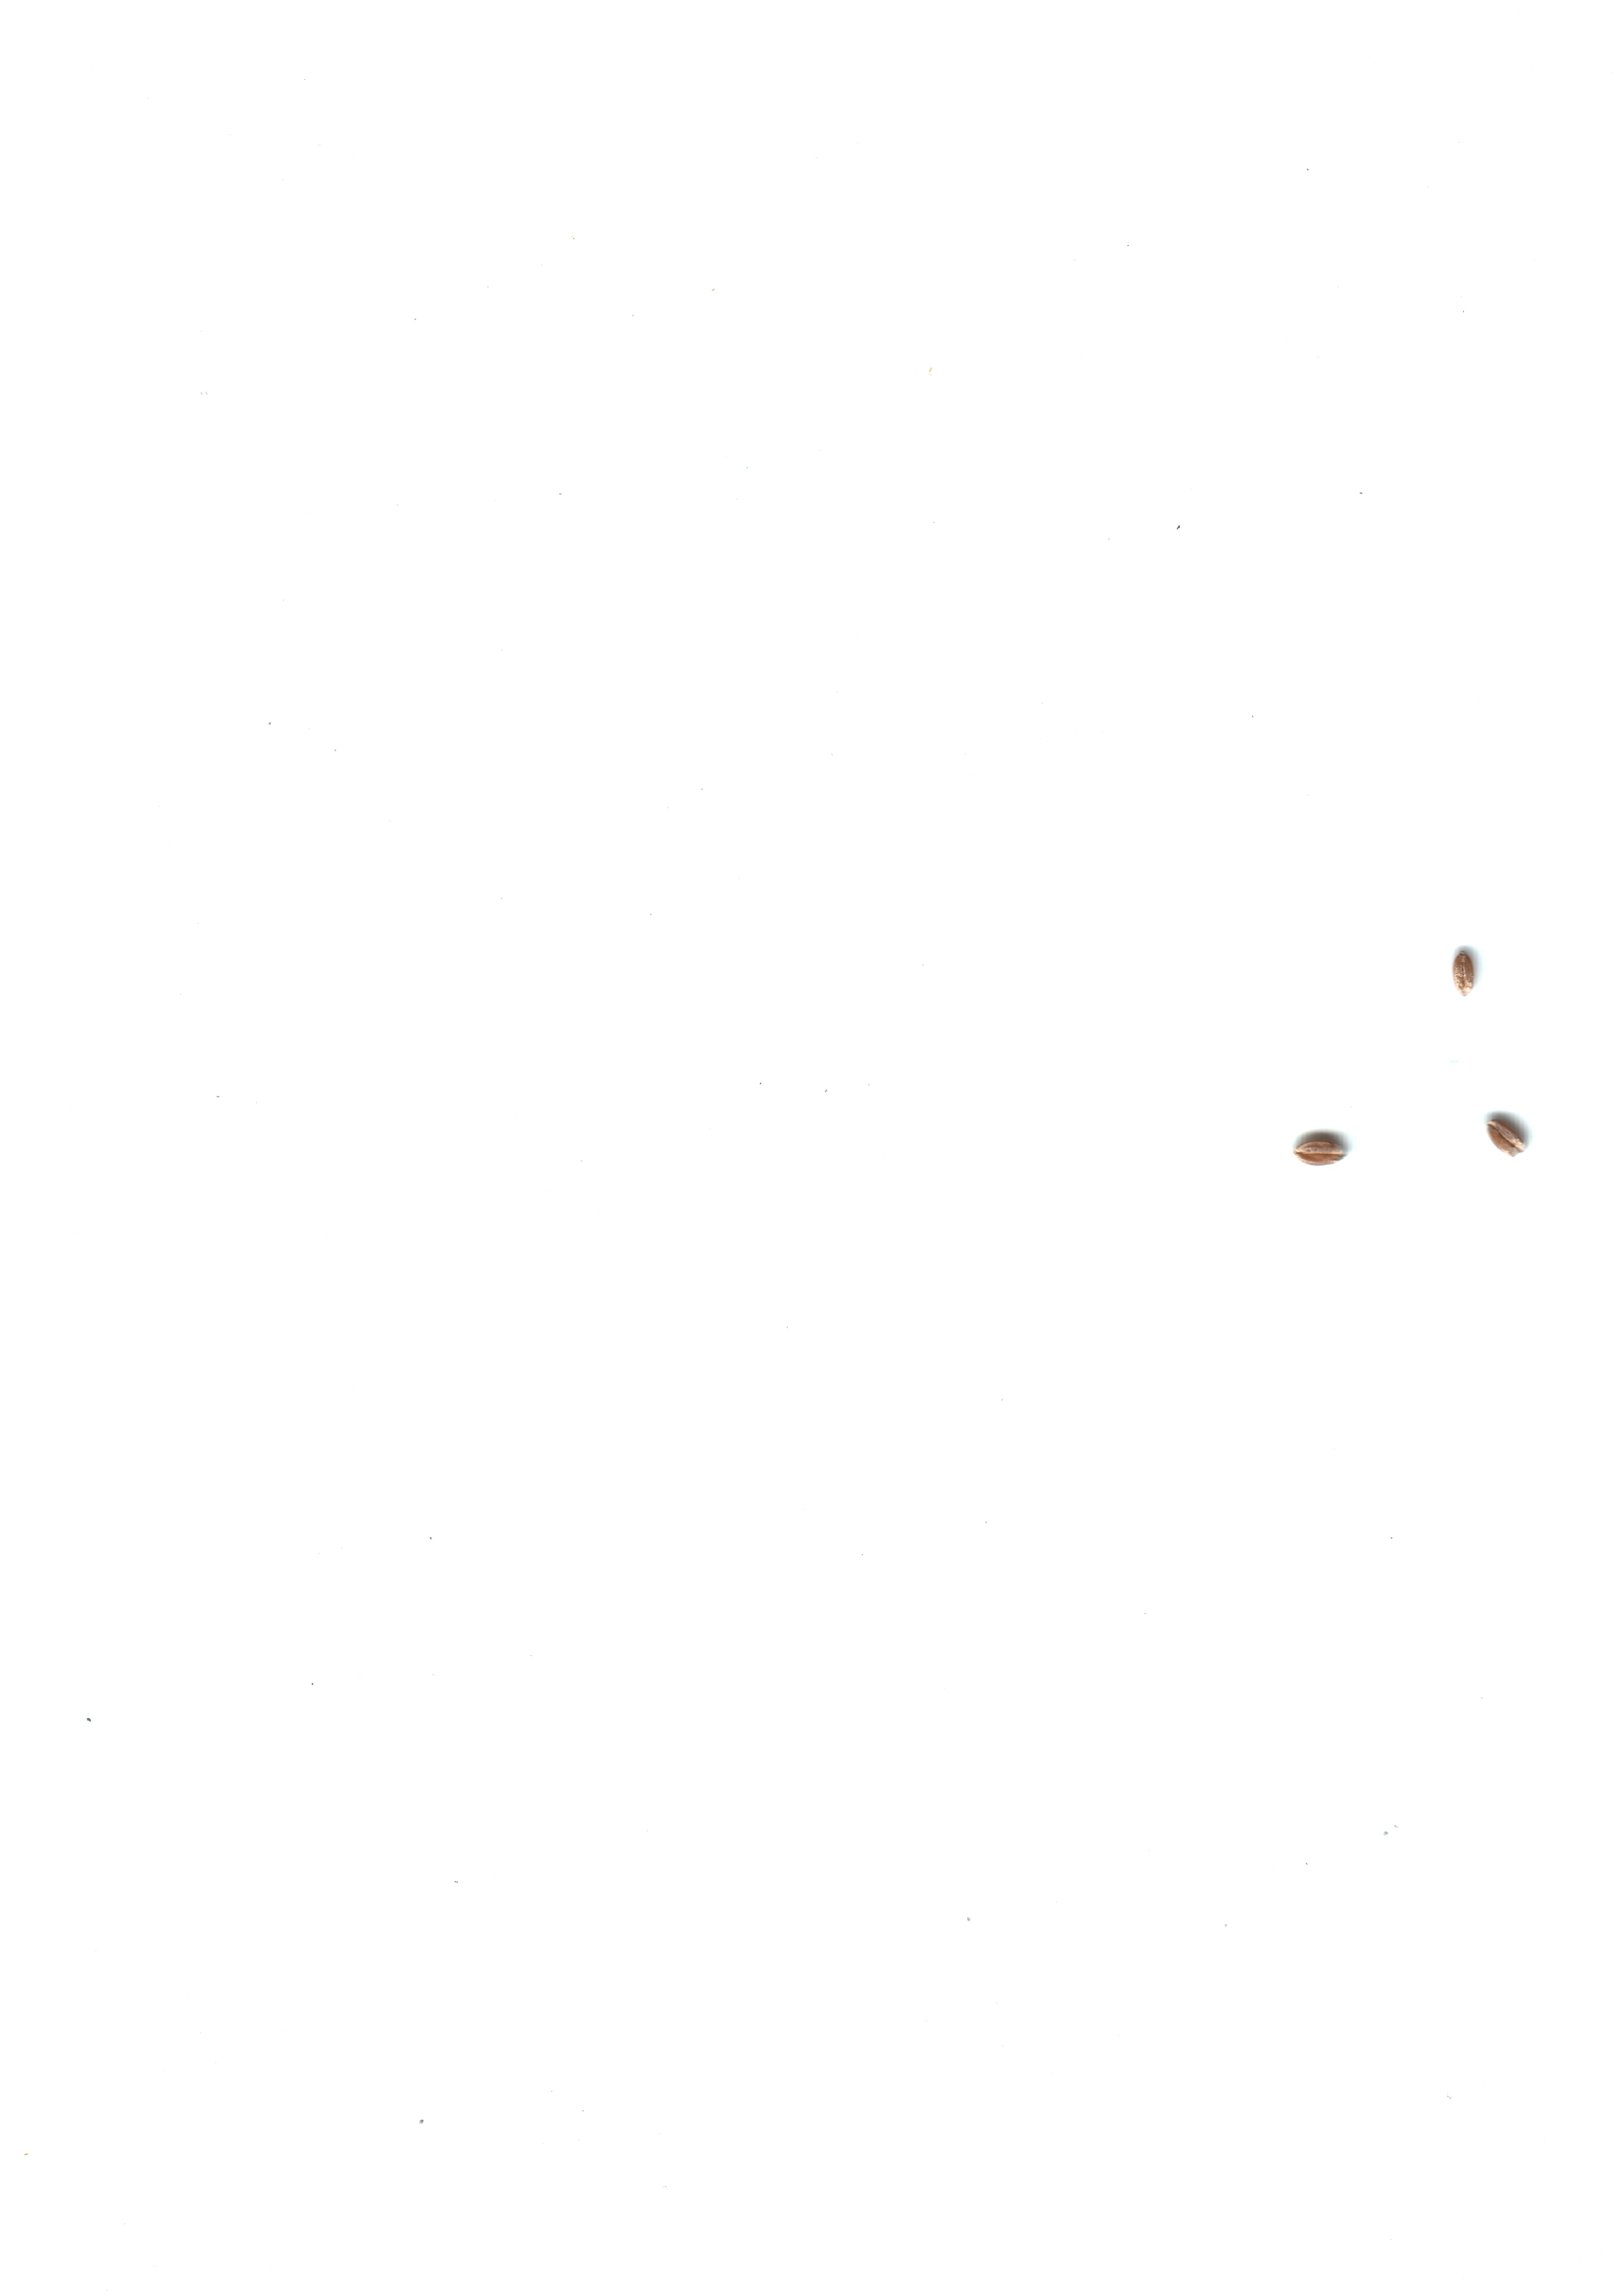grains_3mm: (1276, 1104, 1370, 1192), (1416, 932, 1510, 1020), (1463, 1094, 1558, 1180)
